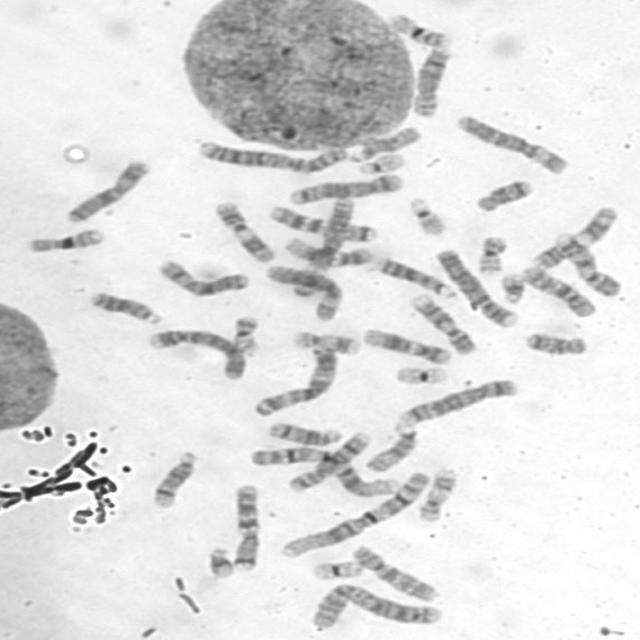A1: (276, 466, 433, 560), (243, 443, 400, 497)
A2: (305, 578, 445, 631), (191, 134, 352, 174)
A3: (288, 195, 358, 299), (249, 341, 343, 417)
B4: (428, 244, 520, 330), (140, 324, 250, 382)
B5: (394, 374, 522, 427), (285, 169, 407, 206)
C10: (346, 540, 442, 604), (516, 260, 601, 318)
C11: (526, 202, 621, 270), (209, 197, 278, 264)
C12: (358, 322, 456, 366), (280, 234, 376, 268)
C6: (451, 109, 571, 175), (260, 260, 344, 323)
C7: (264, 200, 379, 243), (227, 480, 263, 572)
C8: (284, 427, 374, 494), (407, 41, 456, 119)
C9: (549, 228, 626, 298), (406, 288, 479, 356)
D13: (370, 251, 459, 299), (84, 286, 164, 326)
D14: (147, 446, 200, 509), (262, 418, 343, 447)
D15: (358, 422, 421, 474), (344, 122, 422, 163)
E16: (382, 8, 453, 48), (21, 224, 108, 254)
E17: (413, 462, 460, 523), (287, 326, 363, 356)
E18: (470, 174, 537, 213), (521, 328, 590, 357)
F19: (389, 361, 451, 386), (307, 556, 366, 581)
F20: (472, 231, 510, 276), (227, 312, 263, 356)
G21: (202, 541, 238, 579), (495, 269, 527, 305)
G22: (403, 193, 450, 237), (352, 148, 408, 175)
X: (58, 156, 153, 224), (152, 256, 253, 298)
